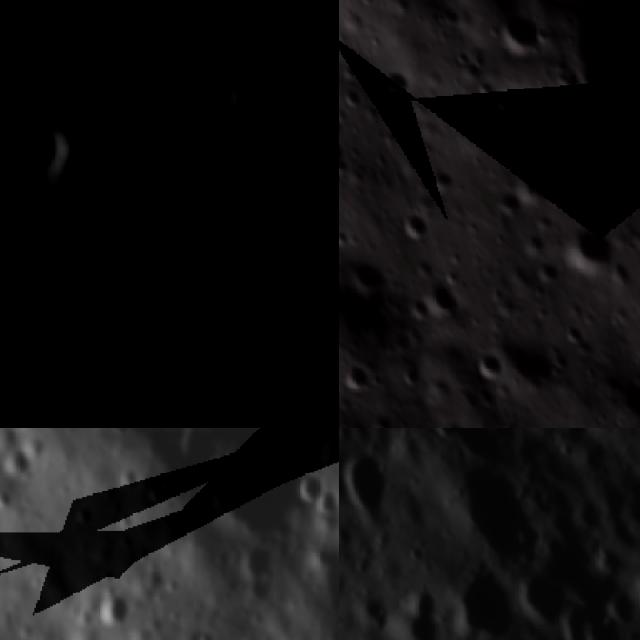crater: (0, 211, 217, 428), (72, 42, 276, 252), (434, 449, 564, 589), (221, 27, 339, 169), (199, 428, 310, 546), (5, 0, 131, 94), (0, 99, 95, 203), (434, 563, 545, 640), (339, 436, 414, 537), (197, 0, 339, 53), (502, 564, 587, 640), (425, 428, 522, 492), (370, 574, 463, 640), (558, 219, 630, 292), (284, 157, 339, 246), (162, 187, 225, 253), (599, 457, 640, 554), (290, 350, 339, 428), (59, 390, 151, 428), (490, 9, 544, 71), (461, 336, 515, 398), (53, 51, 110, 109), (302, 70, 339, 141), (599, 576, 640, 638), (388, 206, 434, 257), (417, 276, 462, 327), (543, 428, 617, 457), (0, 437, 39, 491), (293, 458, 331, 508), (339, 356, 379, 402), (371, 63, 413, 105), (558, 163, 600, 203), (94, 588, 130, 634), (204, 401, 261, 428), (487, 90, 518, 122), (625, 560, 640, 622), (316, 486, 339, 526), (339, 223, 356, 257), (339, 132, 350, 173), (544, 0, 578, 11)
